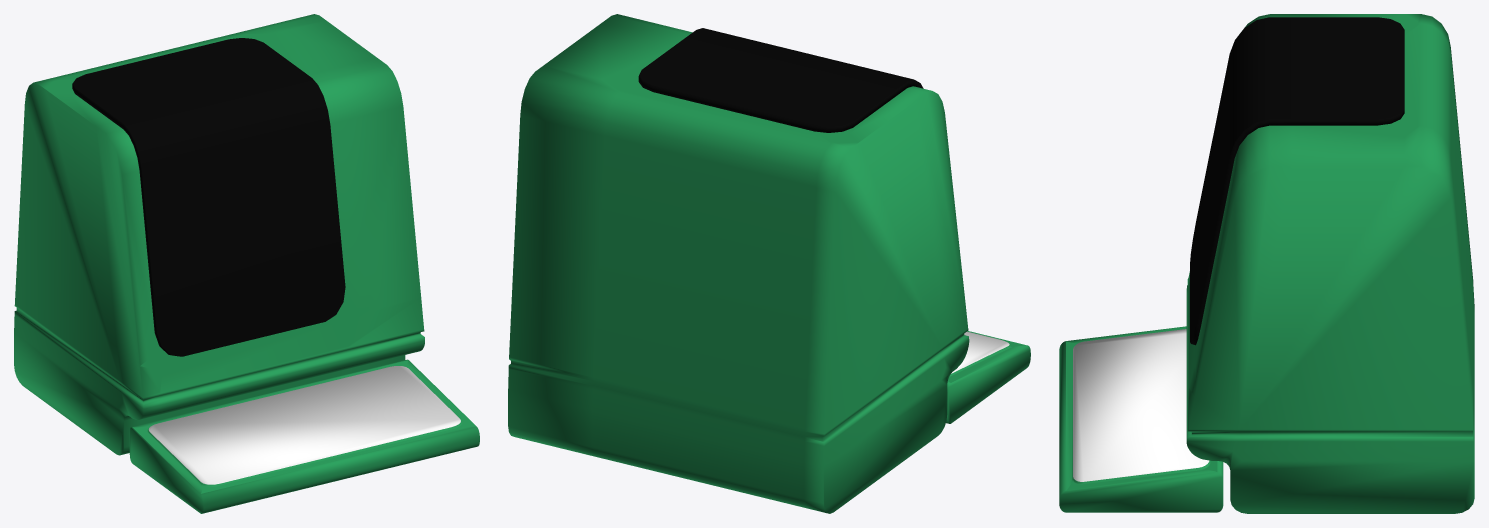
The model's file is green_console_3.glb.
3 renders of one model, left to right at view 1: azimuth 30°, elevation 25°; view 2: azimuth 150°, elevation 25°; view 3: azimuth 270°, elevation 25°, orthographic. The views are drawn at different scales.
Visible parts, largest first — view 1: Cube, screen, Cube.003, Cube.001; view 2: Cube, screen, Cube.003, Cube.001; view 3: Cube, Cube.003, screen, Cube.001.
Boxes of the visible parts, x1,y1,x2,y2 form: Cube: [14, 14, 424, 455]; screen: [72, 38, 345, 356]; Cube.003: [129, 359, 479, 513]; Cube.001: [72, 84, 333, 356]; Cube: [508, 14, 969, 513]; screen: [639, 28, 923, 126]; Cube.003: [946, 331, 1030, 423]; Cube.001: [638, 76, 922, 132]; Cube: [1186, 14, 1474, 513]; Cube.003: [1059, 326, 1223, 512]; screen: [1190, 17, 1404, 343]; Cube.001: [1191, 29, 1404, 345].
Bounding box in the file's own units: 2.17 × 2.35 × 2.5.
